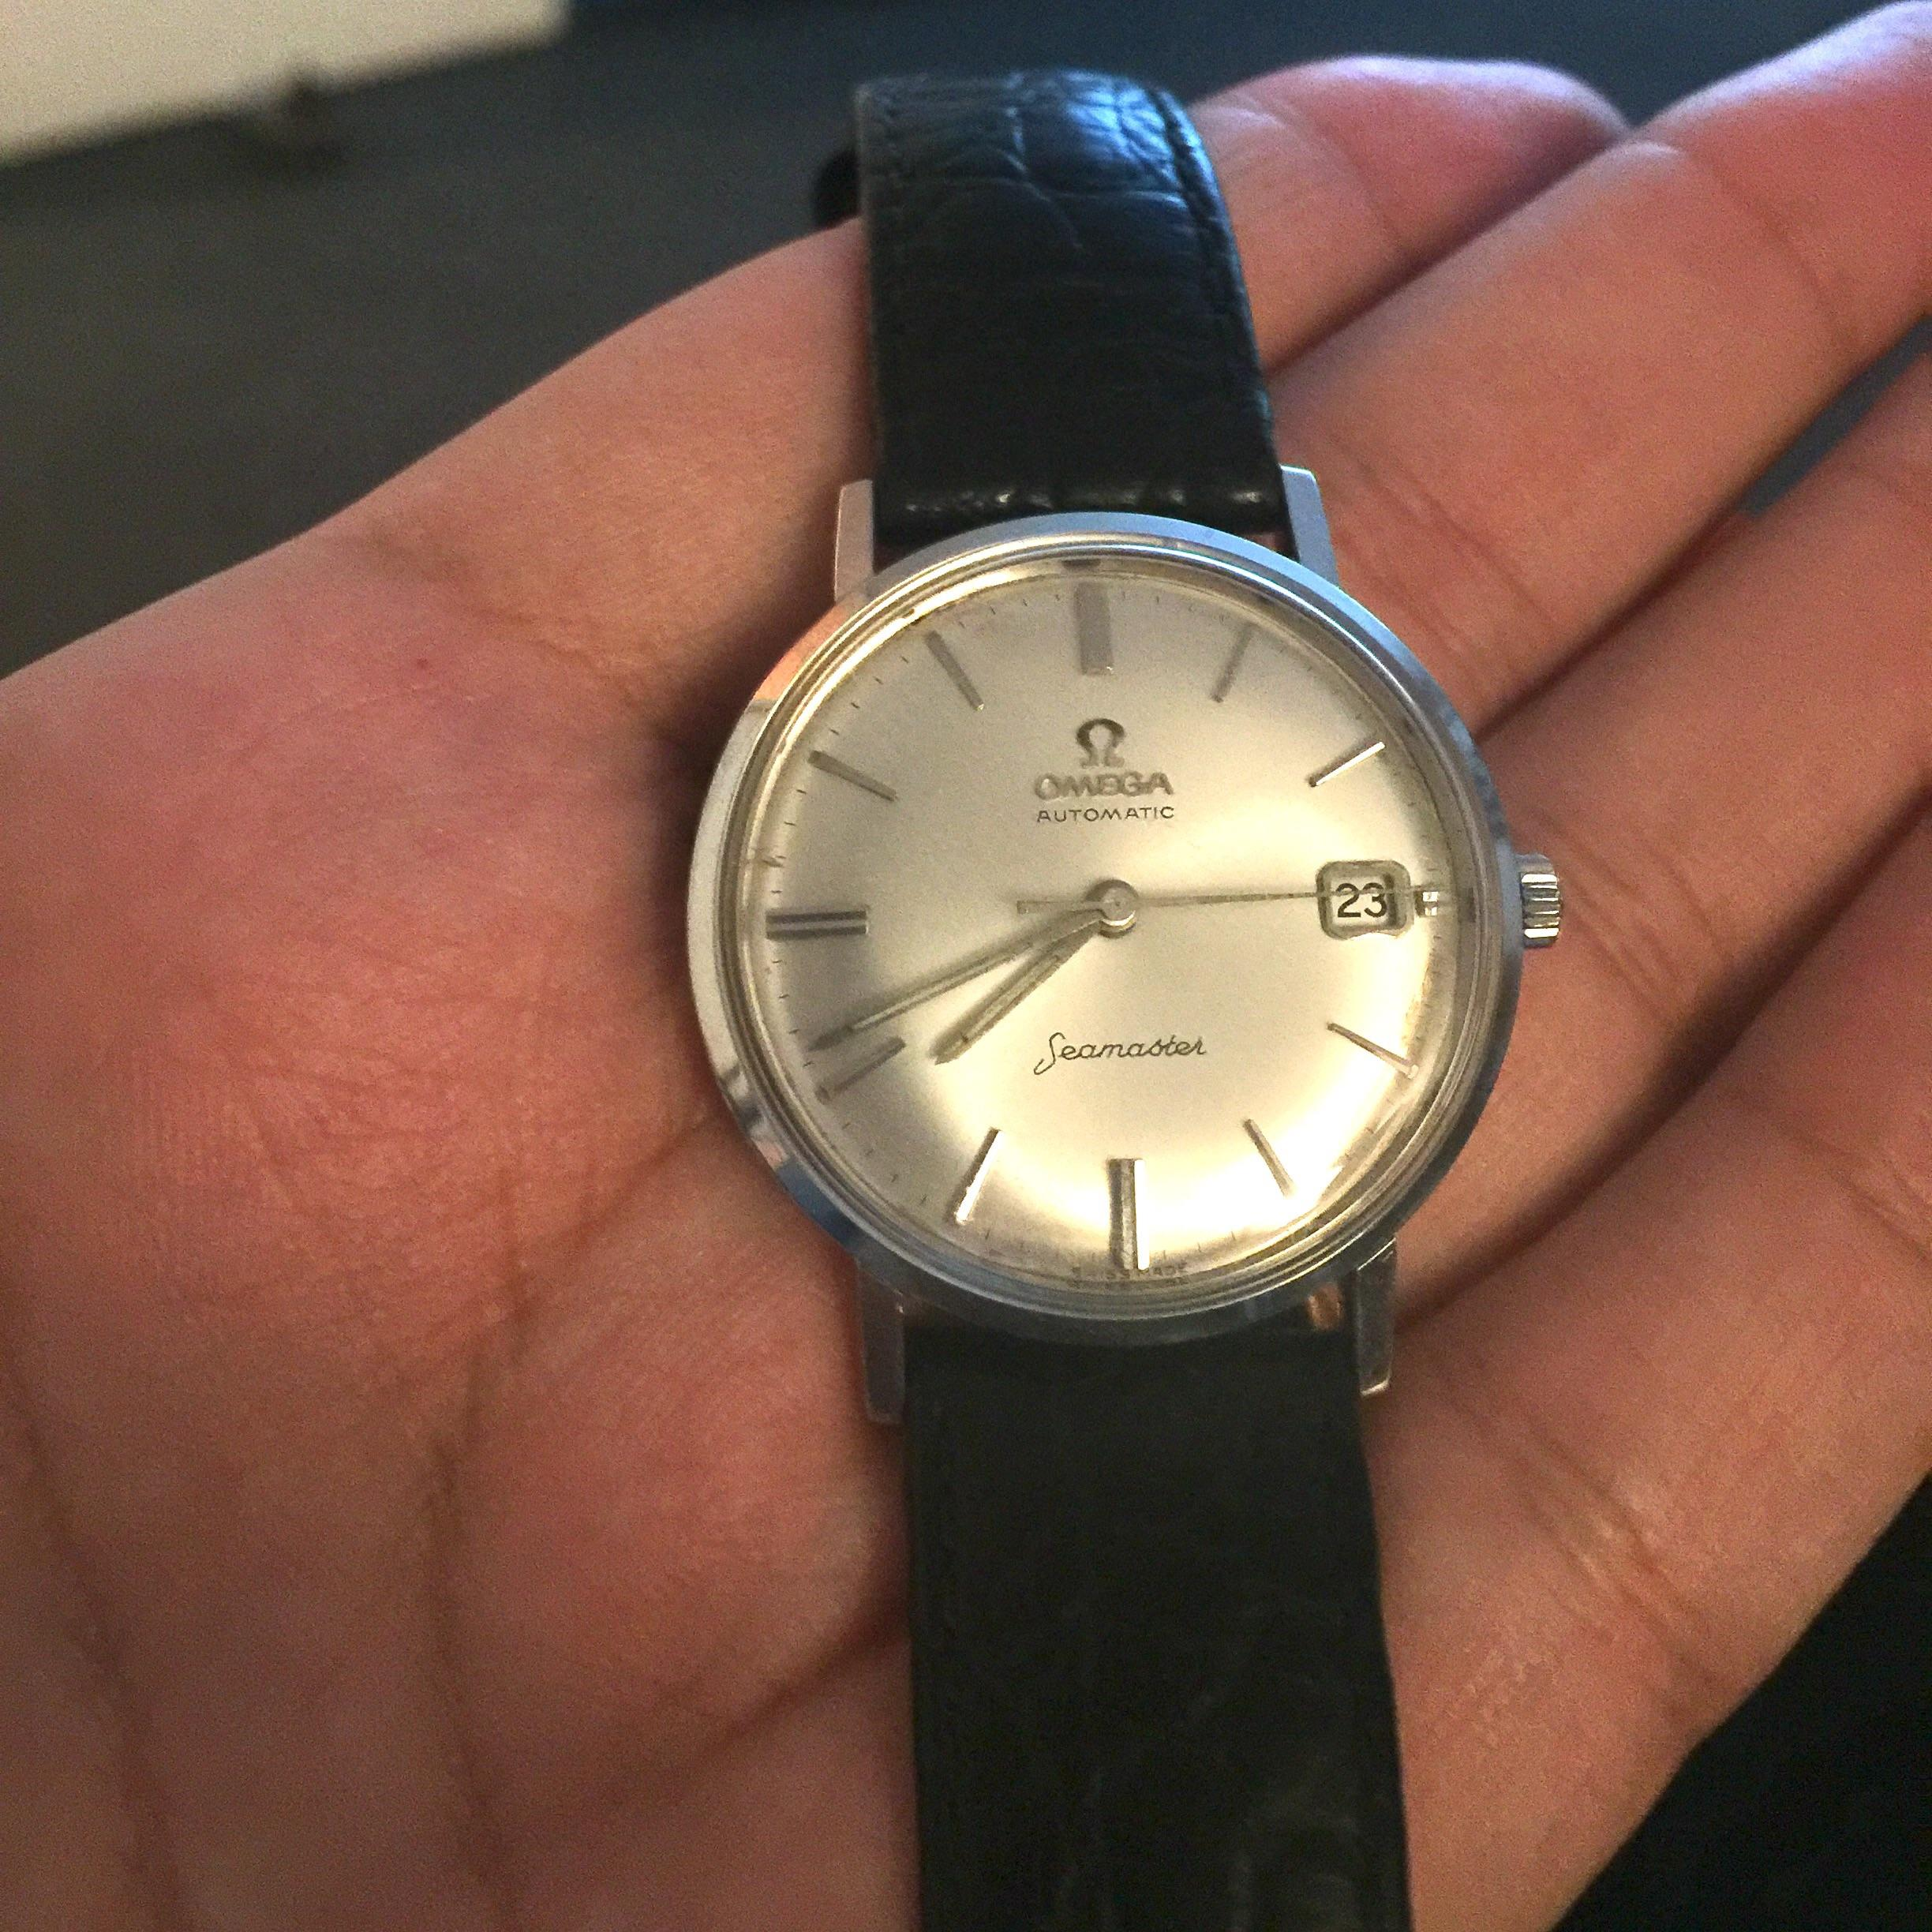clock: (688, 510, 1525, 1346)
